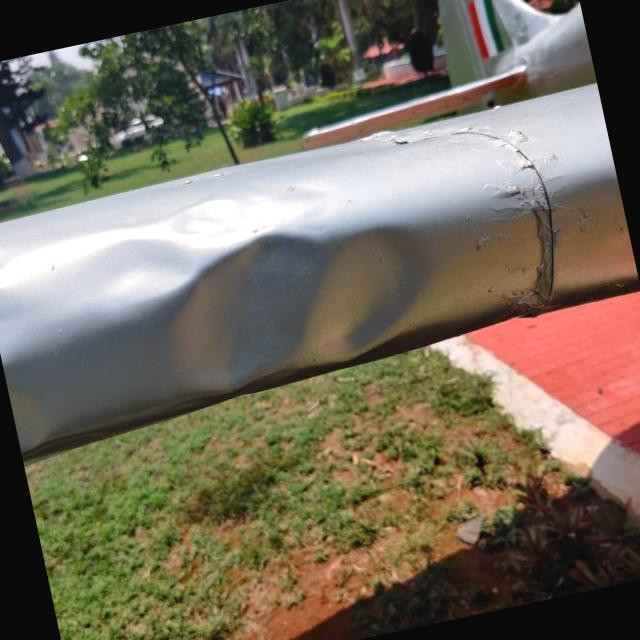dent: (56, 152, 483, 438), (2, 346, 100, 461)
